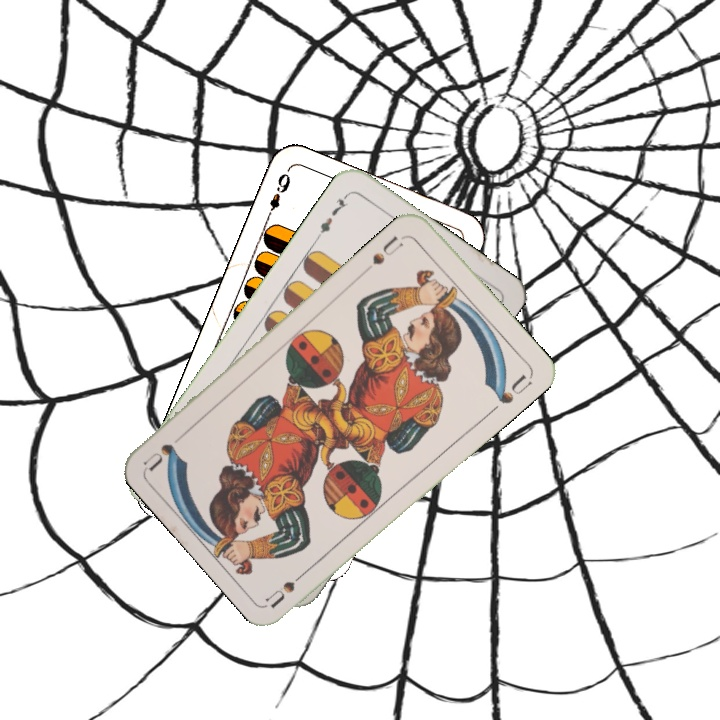E7: (312, 189, 352, 241)
E9: (262, 166, 293, 222)
SU: (263, 563, 314, 609), (360, 231, 409, 275)
